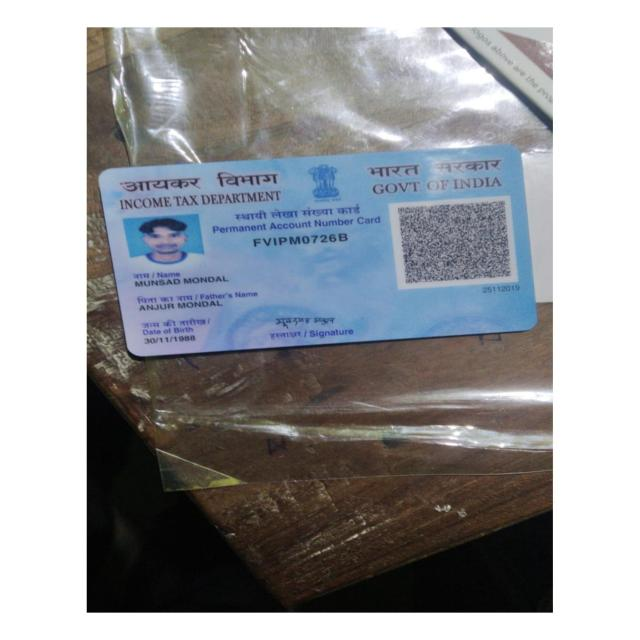pan_card: (99, 146, 534, 358)
